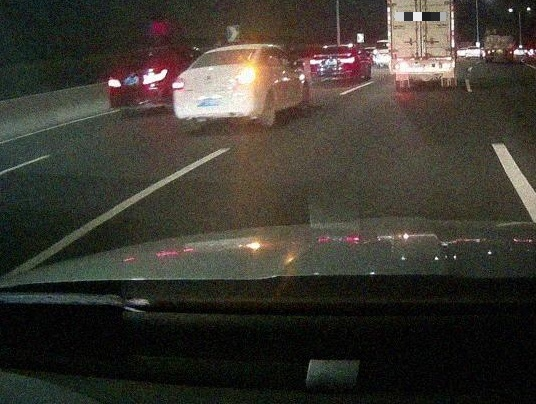L_light: (173, 77, 185, 90), (108, 77, 122, 88), (310, 59, 324, 64)
R_light: (143, 68, 168, 85), (239, 69, 255, 84), (340, 57, 356, 64)
T_light: (219, 50, 235, 53), (142, 50, 152, 53), (332, 46, 340, 48)
night-no: (107, 46, 172, 111), (310, 45, 357, 84)
night-right: (173, 47, 261, 129)
plate_1: (395, 12, 446, 21)
